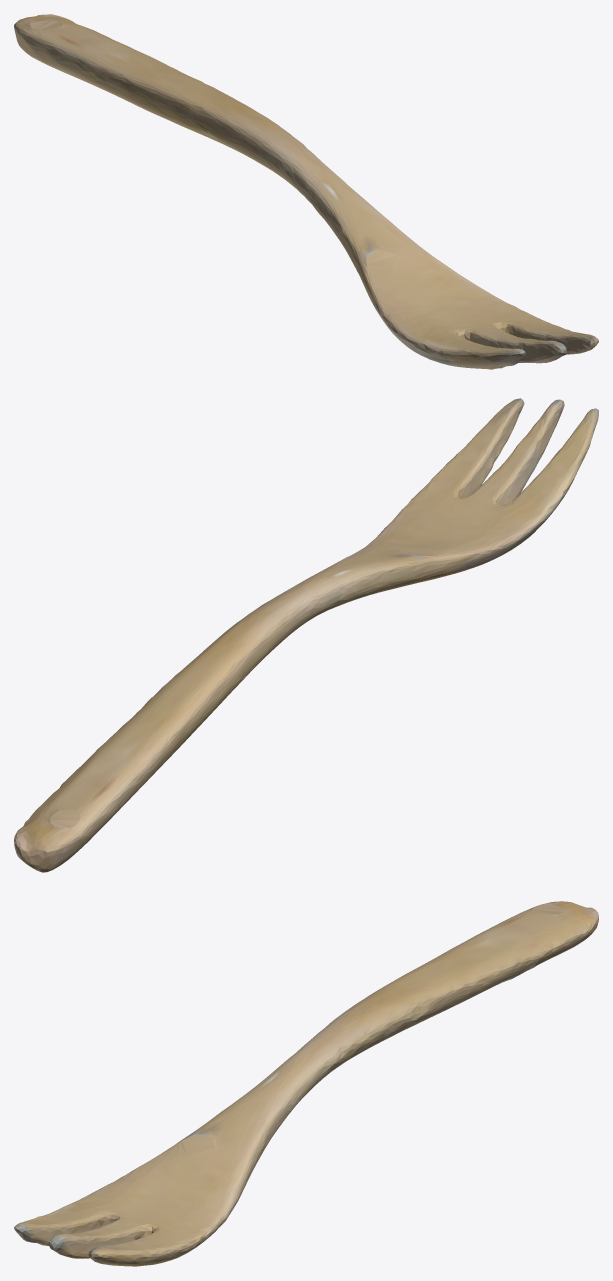
3 views of the same model, one above another, from view 1: azimuth 30°, elevation 25°; view 2: azimuth 150°, elevation 25°; view 3: azimuth 330°, elevation 25° (orthographic).
Visible parts, largest first — view 1: scan.ply; view 2: scan.ply; view 3: scan.ply.
Boxes of the visible parts, x1=… form: scan.ply: x1=14, y1=14, x2=598, y2=369; scan.ply: x1=14, y1=398, x2=598, y2=872; scan.ply: x1=14, y1=901, x2=598, y2=1266.
Bounding box in the file's own units: 0.0279 × 0.0185 × 0.2071.
